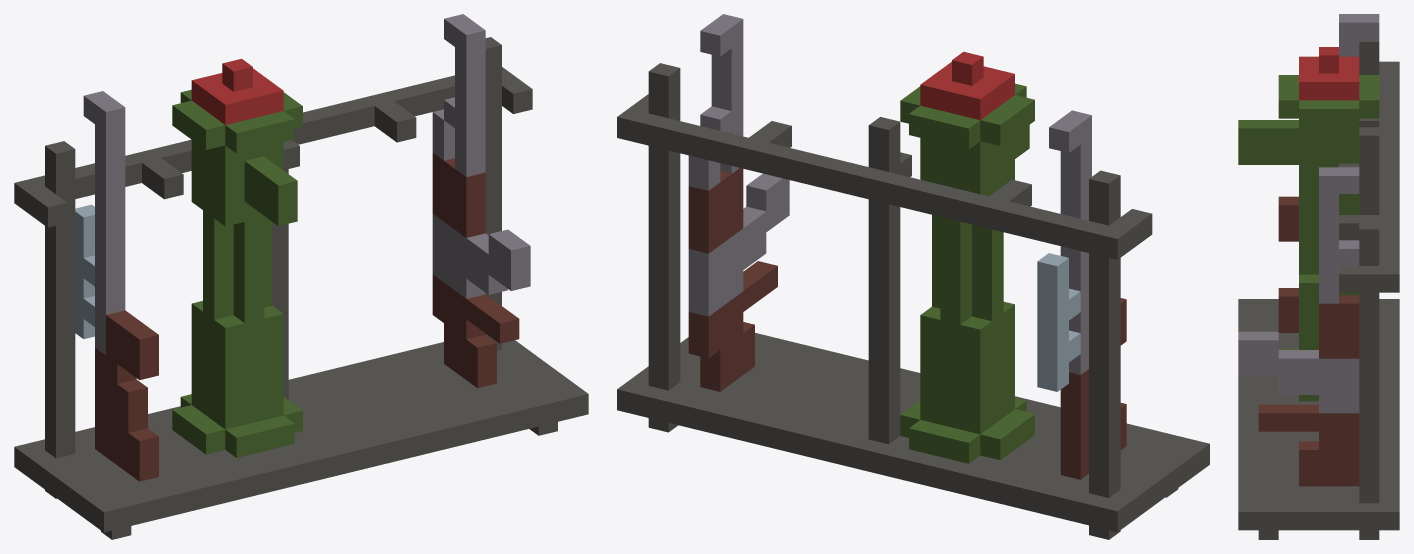
Rendered from WeaponRack.obj.
3 renders of one model, left to right at view 1: azimuth 30°, elevation 25°; view 2: azimuth 150°, elevation 25°; view 3: azimuth 270°, elevation 25°, orthographic. The views are drawn at different scales.
Bounding box in the file's own units: 25 × 20 × 8.
1 material, 1 textured.
